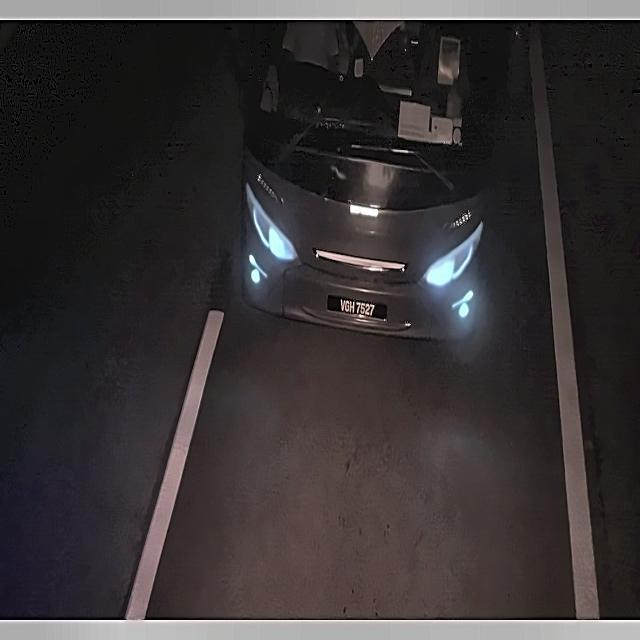car: (329, 290, 387, 325)
